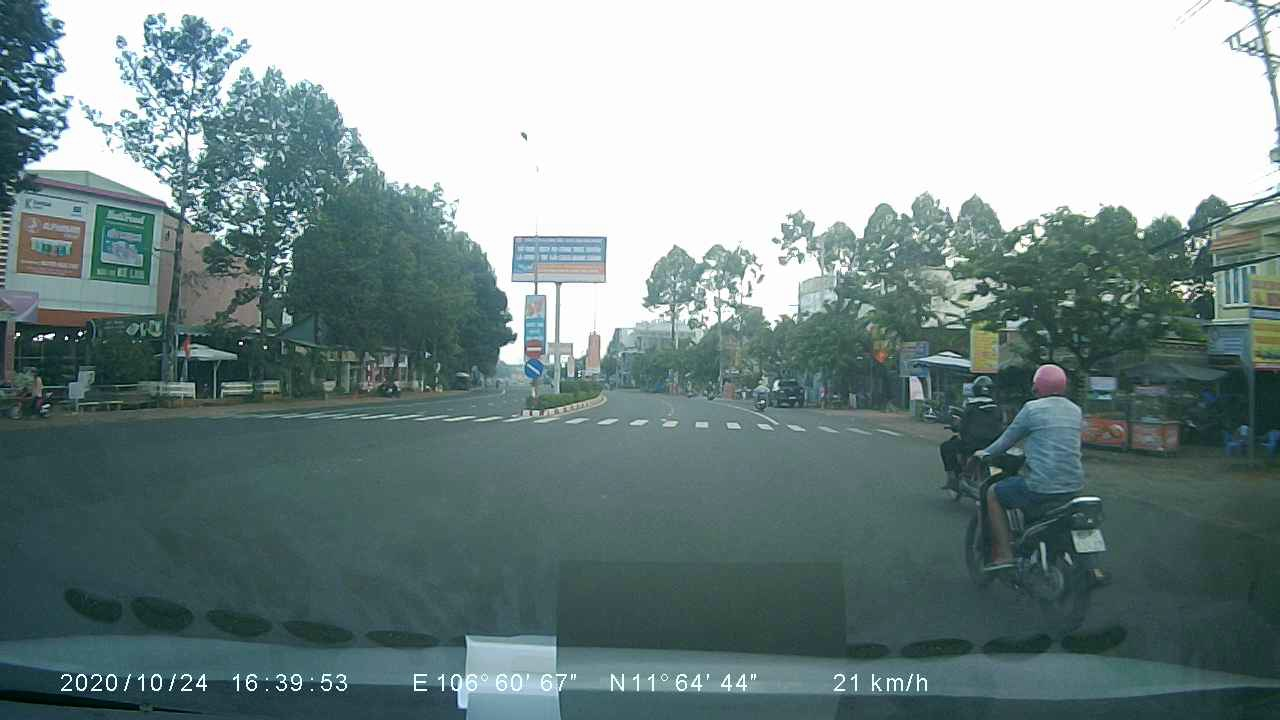Cam di nguoc chieu: (521, 334, 545, 360)
Huong di phai re phai: (521, 357, 545, 380)
